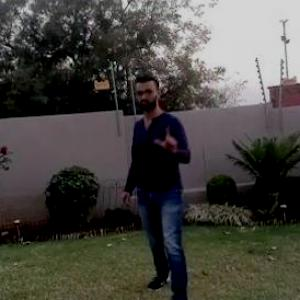land_hand: (147, 120, 185, 156)
